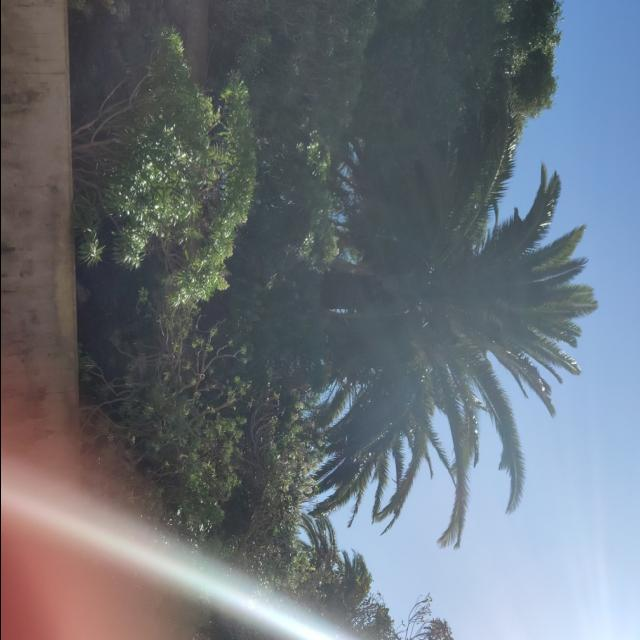Palm-Trees: (300, 142, 598, 510)
